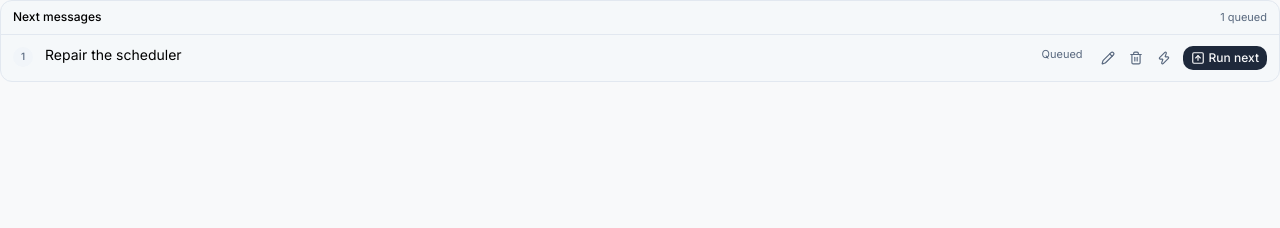
Scenario: QueuedMessages › replaces a stale local row with the latest server item and announces the conflict
Click the button named "Edit queued message 1": (1108, 58) [1095,44,1121,70]
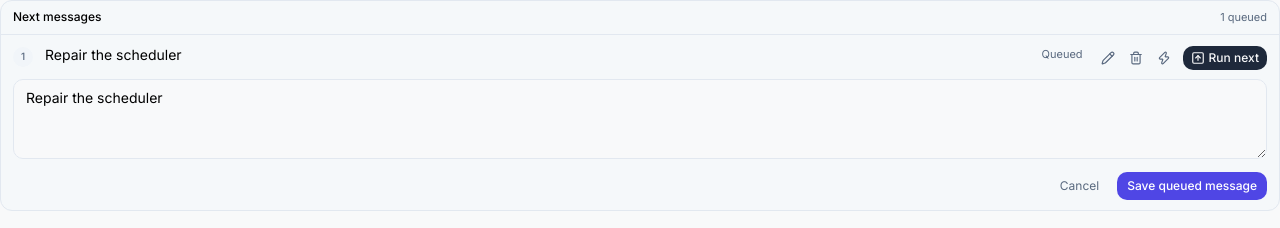
Replace the text in the text box named "Edit queued message 1" with "Outdated local text": (640, 118) [13,78,1267,158]
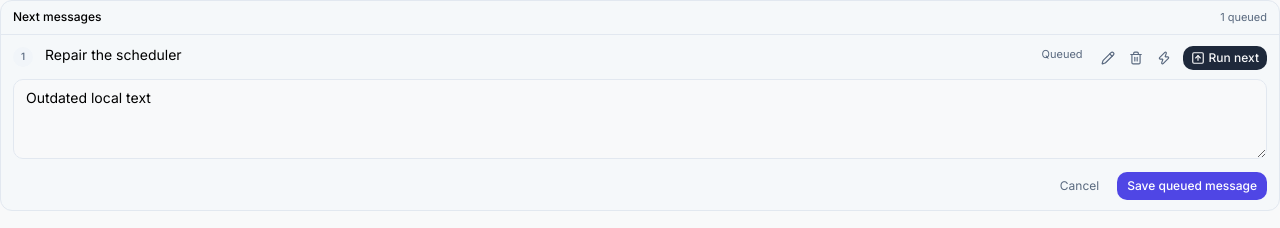
Click the button "Save queued message": (1192, 186) [1117,172,1267,200]
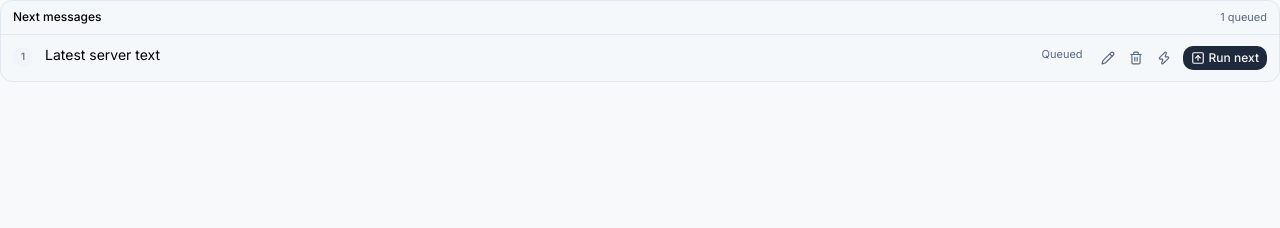
Expected: the text "Latest server text" is shown, [45,46,160,62]
